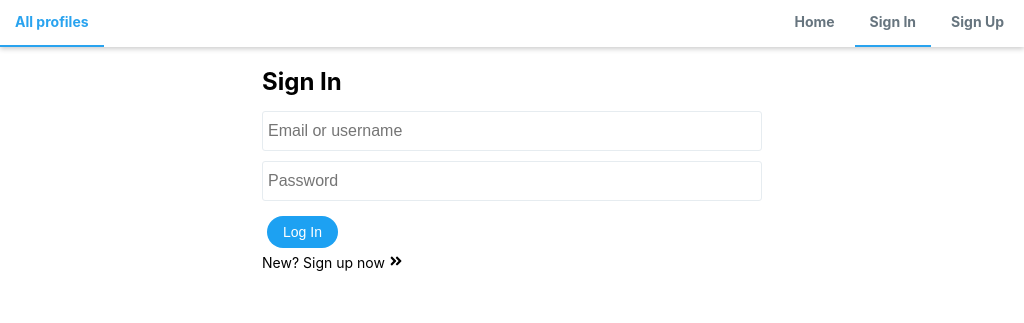
Test case: /Signin › Form submission › requires password
Type "fake@email.com" into the field with test id "signin-username-input" at (512, 131), box 262,111 -> 762,151
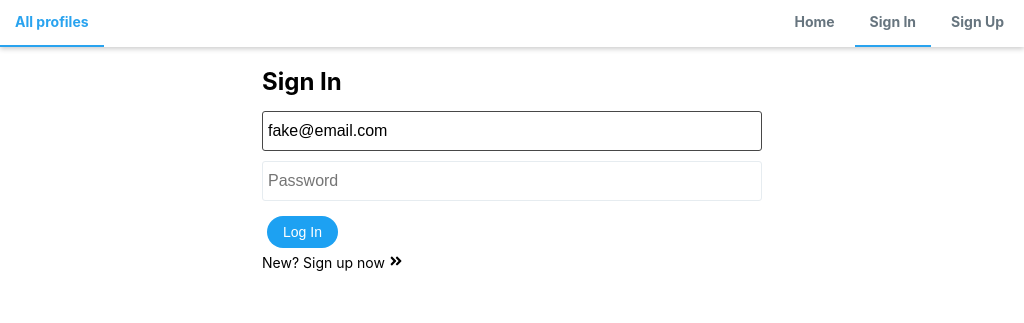
Submit the form with test id "signin-form", box 262,111 -> 762,253
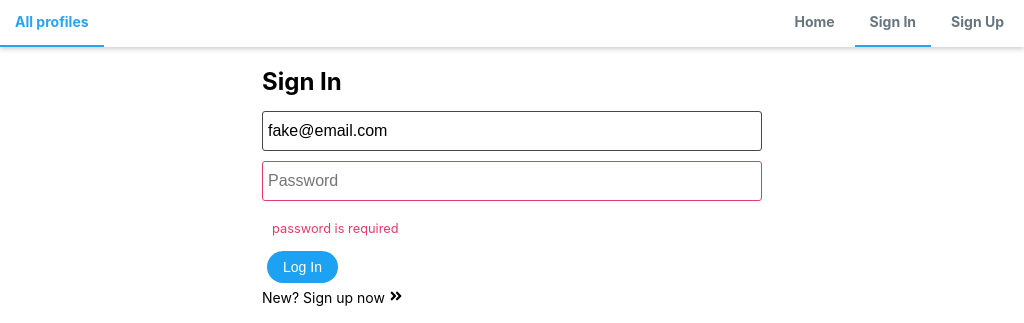
Now the text "password is required" is shown, box 272,221 -> 398,236
